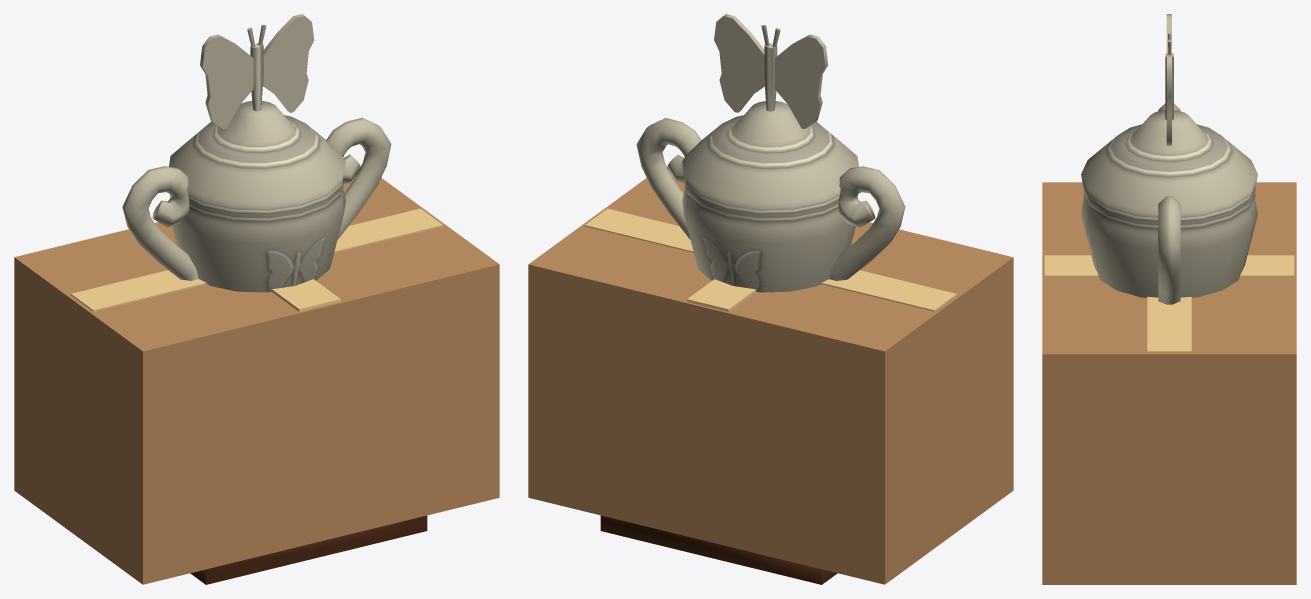
The model's file is SilverBugTrophyHand.fbx.
The picture shows the model from 3 angles, left to right: view 1: azimuth 30°, elevation 25°; view 2: azimuth 150°, elevation 25°; view 3: azimuth 270°, elevation 25°; orthographic projection.
Parts seen in each view (by area): view 1: MovingBox, MovingBox (1), Cube (1), Cube (2); view 2: MovingBox, MovingBox (1), Cube (1), Cube (2); view 3: MovingBox, MovingBox (1), Cube (2), Cube (1).
Boxes of the visible parts, left/top/right/bottom form: MovingBox: left=14, top=175, right=499, bottom=584; MovingBox (1): left=122, top=14, right=427, bottom=584; Cube (1): left=71, top=208, right=442, bottom=311; Cube (2): left=271, top=279, right=340, bottom=311; MovingBox: left=528, top=175, right=1013, bottom=584; MovingBox (1): left=600, top=14, right=905, bottom=584; Cube (1): left=585, top=208, right=956, bottom=311; Cube (2): left=687, top=279, right=756, bottom=311; MovingBox: left=1042, top=182, right=1296, bottom=584; MovingBox (1): left=1081, top=14, right=1257, bottom=304; Cube (2): left=1044, top=255, right=1294, bottom=278; Cube (1): left=1147, top=296, right=1191, bottom=352.
Size of the model in its own units: 0.8 by 1.05 by 0.5.
3 materials, 1 textured.
